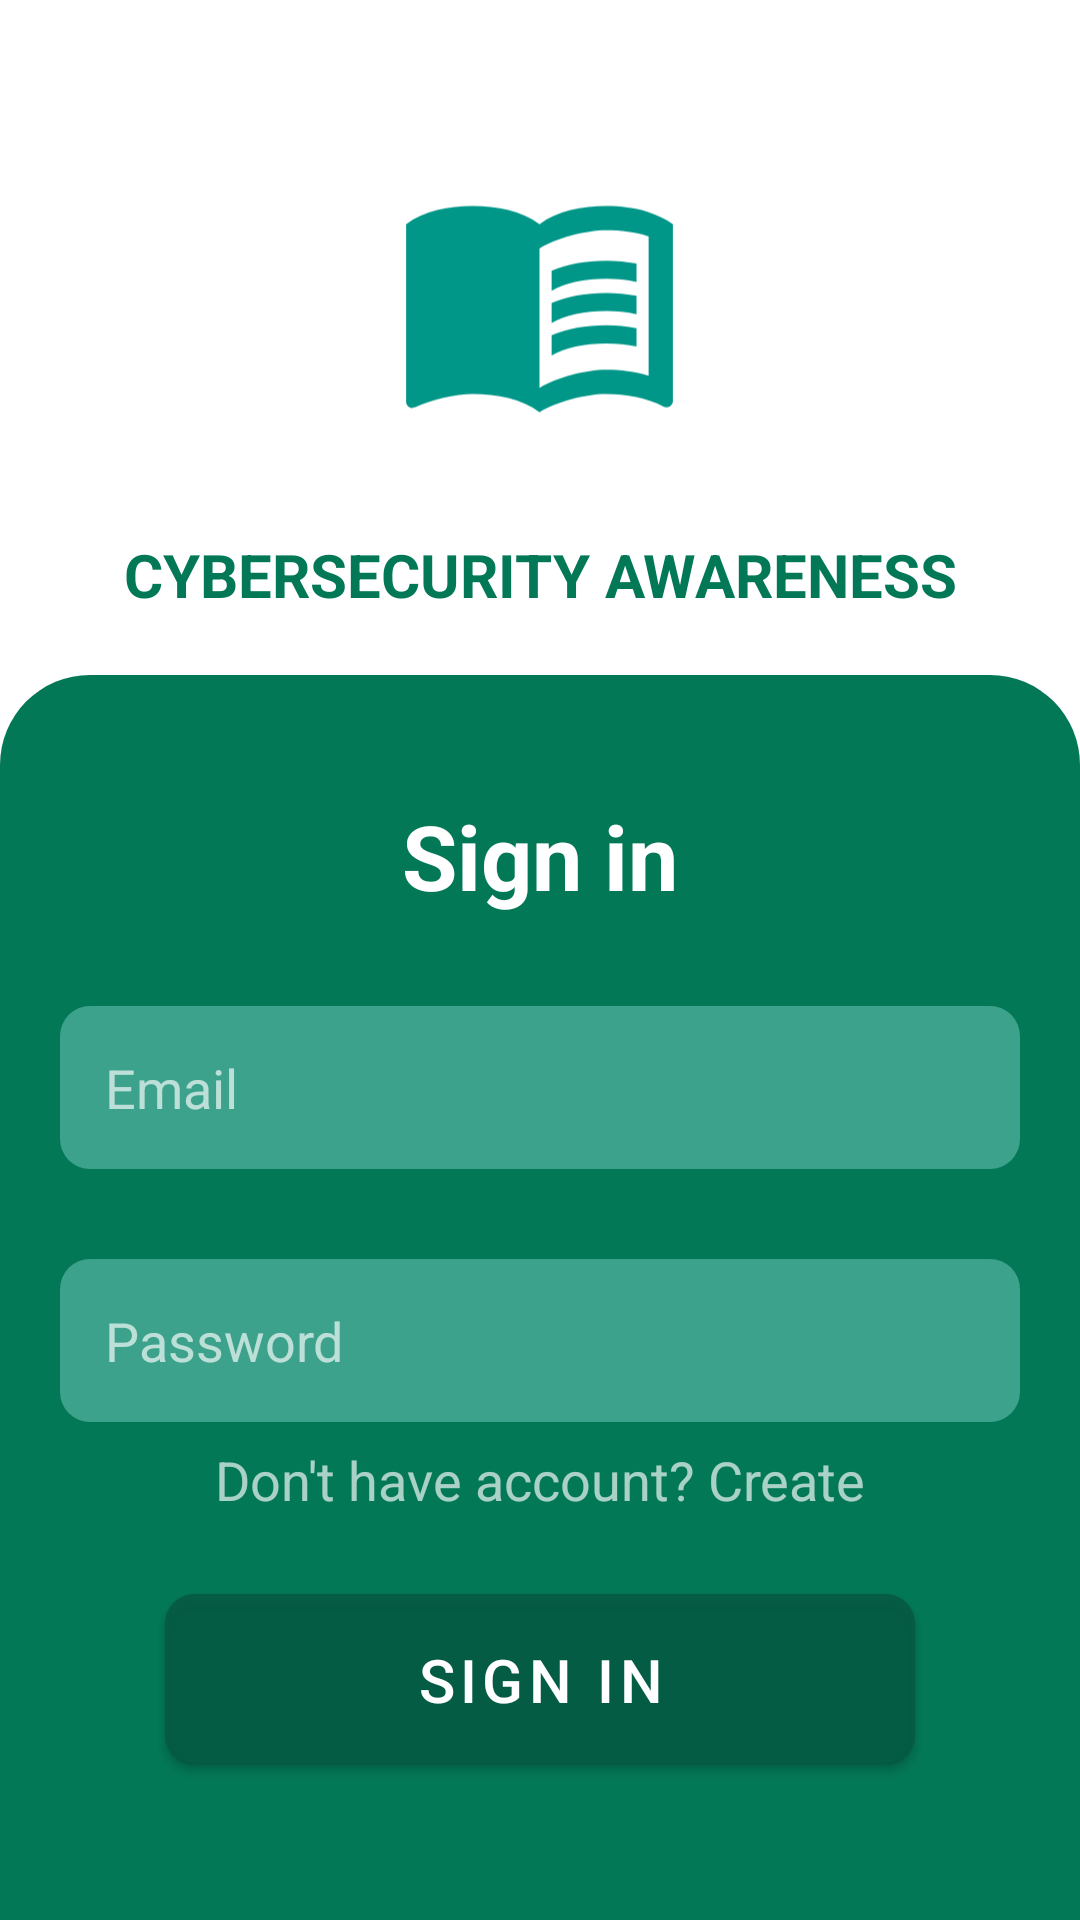

Named icons in this screenshot (1080x1920) and their bounding boxes, bbox(x1, y1, x2, y2):
book: bbox(406, 205, 673, 413)
